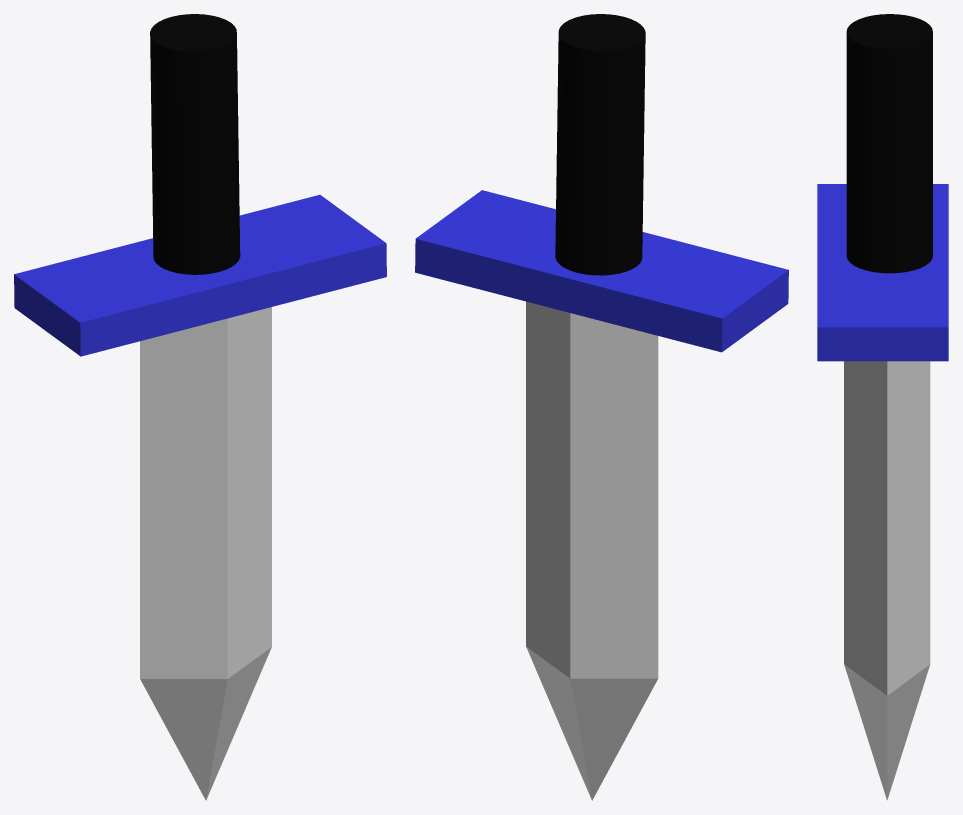
The model's file is レベル2ナイフ.fbx.
The picture shows the model from 3 angles, left to right: view 1: azimuth 30°, elevation 25°; view 2: azimuth 150°, elevation 25°; view 3: azimuth 270°, elevation 25°; orthographic projection.
Visible parts, largest first — view 1: 円錐, 立方体.003, 円柱.007; view 2: 円錐, 立方体.003, 円柱.007; view 3: 円錐, 円柱.007, 立方体.003.
Part boxes in pixels (x1,y1,x2,y2): 円錐: (140,307,271,800); 立方体.003: (14,194,386,356); 円柱.007: (150,14,240,274); 円錐: (526,301,658,800); 立方体.003: (415,190,788,352); 円柱.007: (555,14,645,275); 円錐: (844,361,930,800); 円柱.007: (846,14,932,273); 立方体.003: (817,184,948,361).
Size of the model in its own units: 1.39 by 3.34 by 0.5213.
